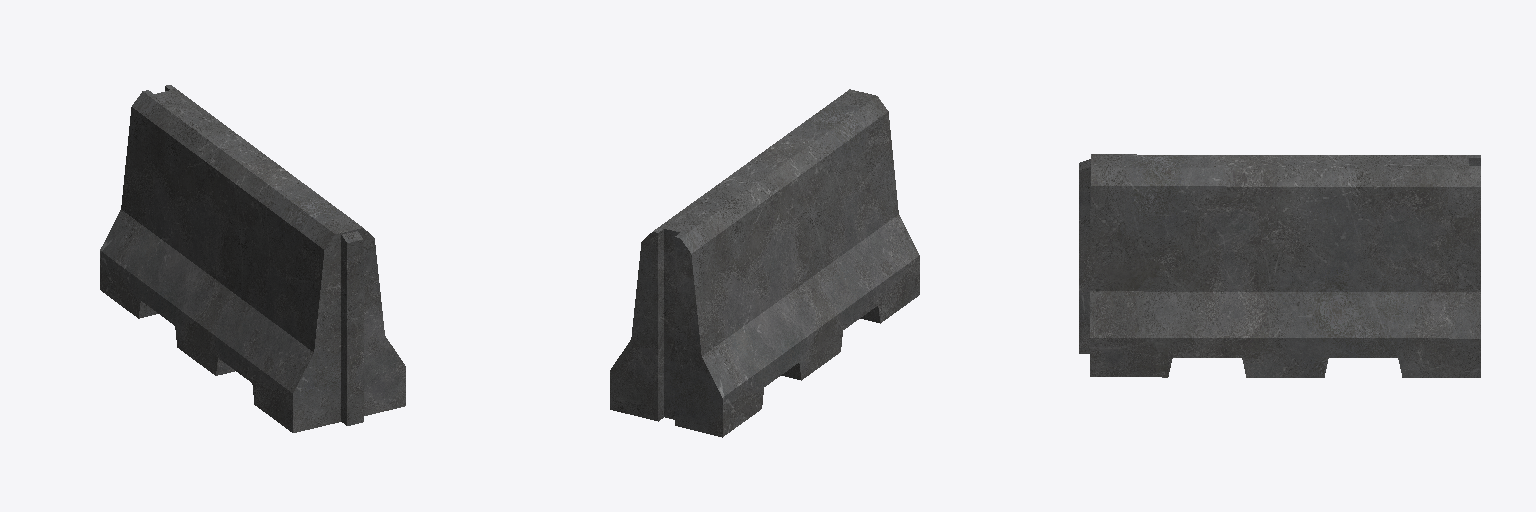
3 views of the same model, side by side, from view 1: azimuth 30°, elevation 25°; view 2: azimuth 150°, elevation 25°; view 3: azimuth 270°, elevation 25° (orthographic).
Parts seen in each view (by area): view 1: pCube1 Mesh; view 2: pCube1 Mesh; view 3: pCube1 Mesh.
Boxes of the visible parts, <box> form: pCube1 Mesh: <box>100,85,405,432</box>; pCube1 Mesh: <box>610,89,919,437</box>; pCube1 Mesh: <box>1079,154,1480,377</box>.
Bounding box in the file's own units: 50.92 × 80 × 155.
2 materials, 1 textured.